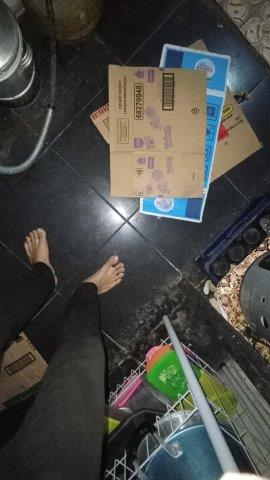kardus: (91, 41, 261, 220)
